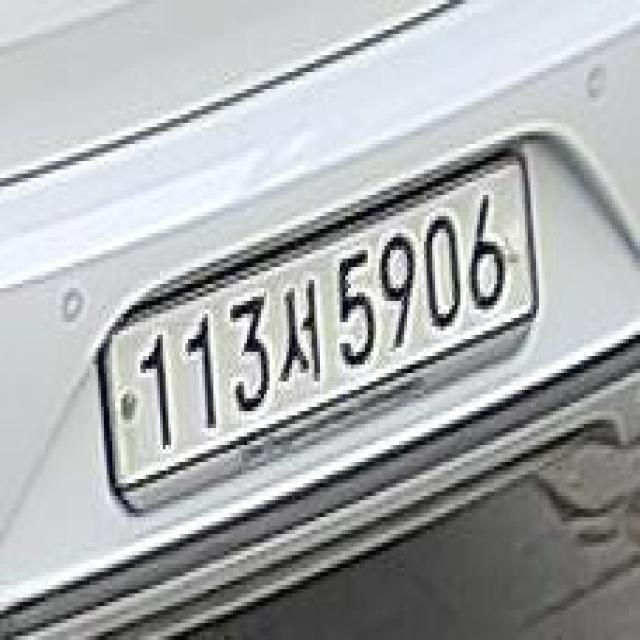illegal_plate: (98, 148, 544, 519)
